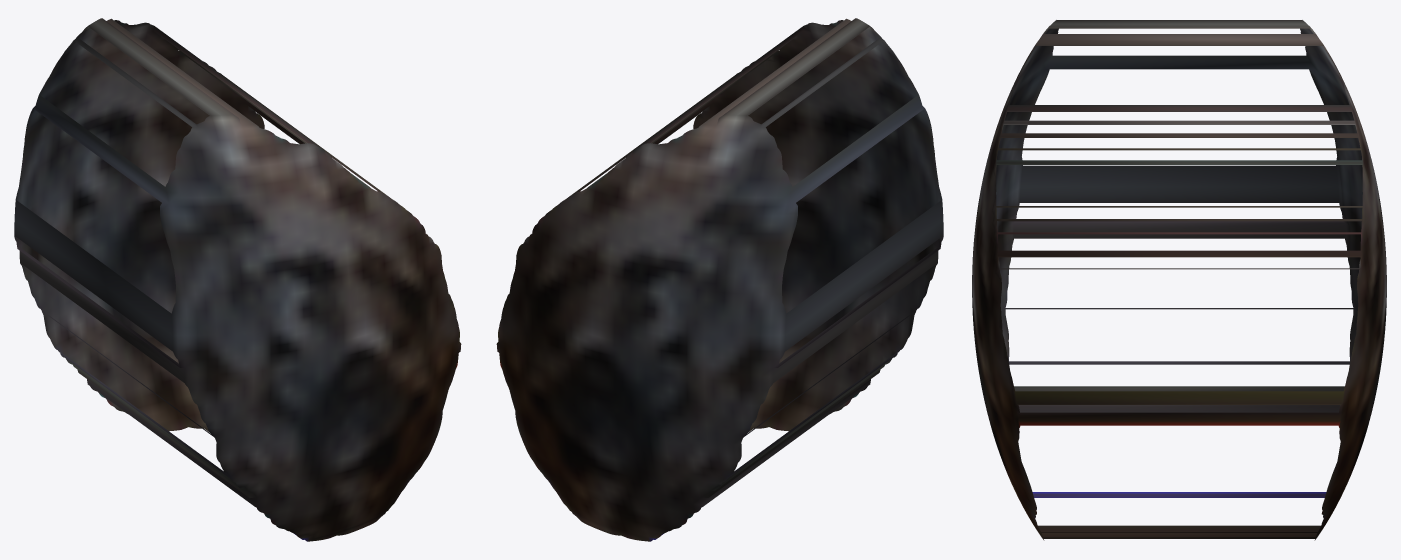
3 views of the same model, side by side, from view 1: azimuth 30°, elevation 25°; view 2: azimuth 150°, elevation 25°; view 3: azimuth 270°, elevation 25° (orthographic).
Parts seen in each view (by area): view 1: planets:3; view 2: planets:3; view 3: planets:3.
Part boxes in pixels (x1,y1,x2,y2): planets:3: [14, 18, 461, 541]; planets:3: [496, 18, 943, 541]; planets:3: [972, 20, 1386, 540].
Size of the model in its own units: 0.5411 by 0.7778 by 0.6599.
1 material, 1 textured.
